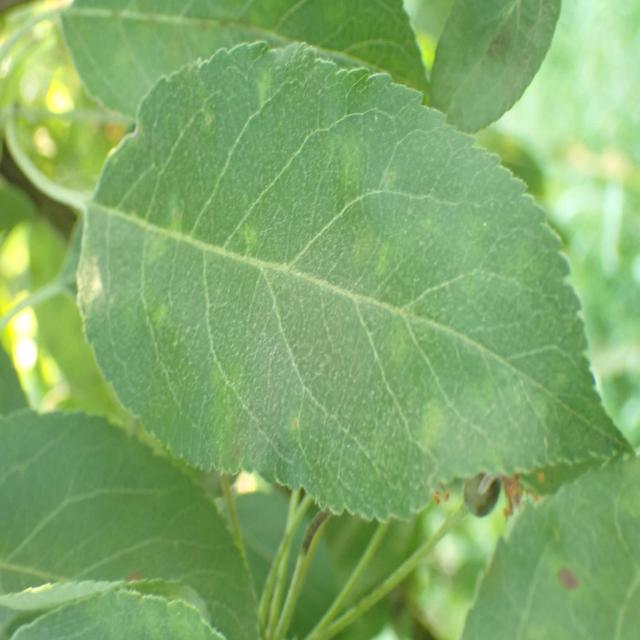scab: (81, 71, 574, 484)
